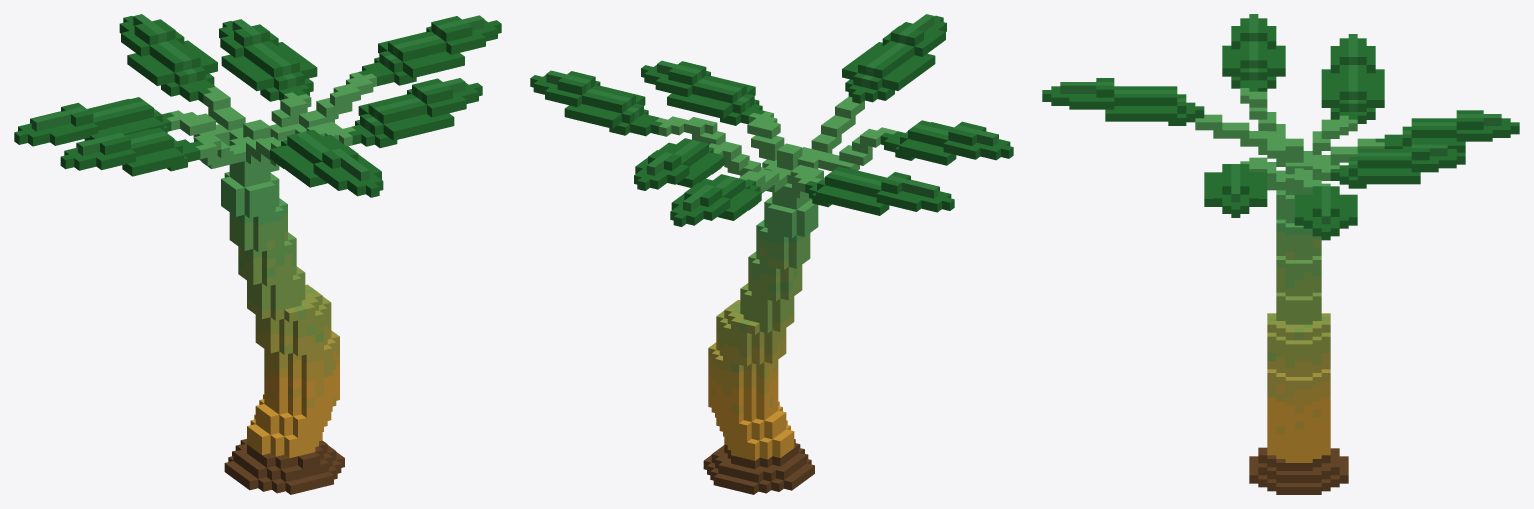
Rendered from 2_2 bana.obj.
The picture shows the model from 3 angles, left to right: view 1: azimuth 30°, elevation 25°; view 2: azimuth 150°, elevation 25°; view 3: azimuth 270°, elevation 25°; orthographic projection. The views are drawn at different scales.
Size of the model in its own units: 5.5 by 4.5 by 5.3.
Materials: 1 (1 with a texture image).
